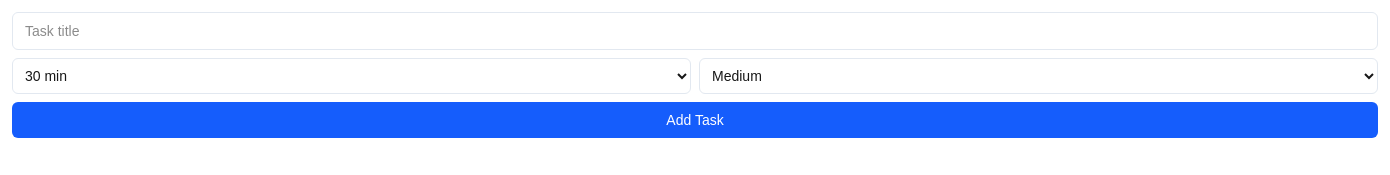
Test: AddTaskForm › clears validation error when user starts typing
Submit the form
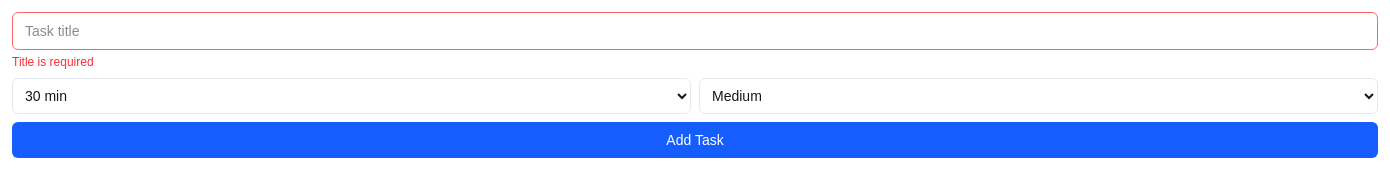
Expected: the text "Title is required" is shown, [12,55,94,69]
In the field with placeholder "Task title": (695, 31) [12,12,1378,50], type "x"
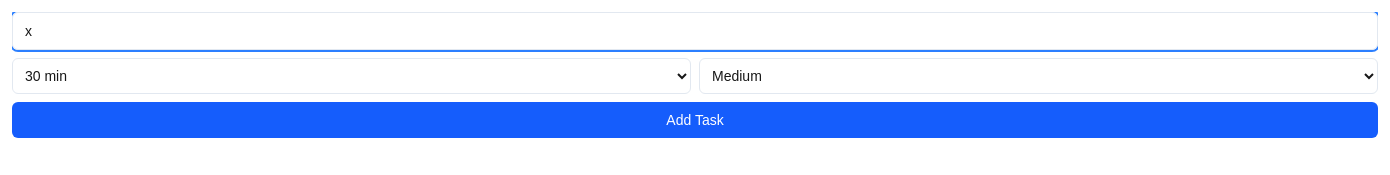
Expected: the text "Title is required" is gone
